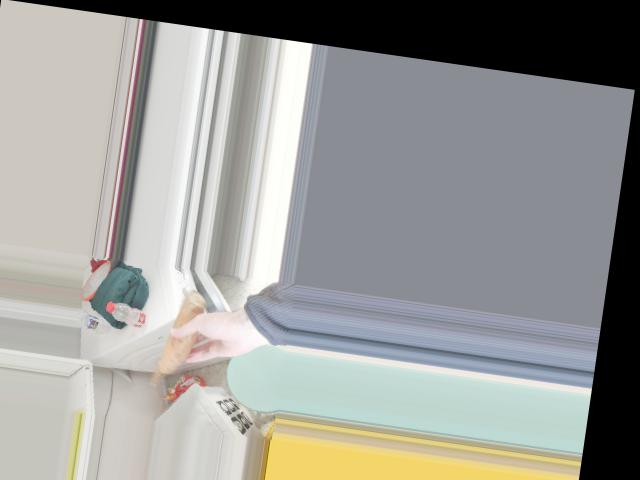sweet_potato: (146, 291, 210, 388)
